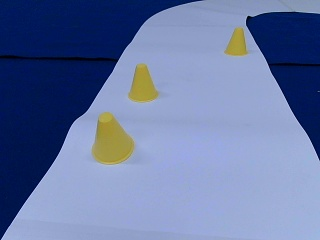cone: (92, 112, 134, 163), (127, 64, 159, 102), (224, 27, 247, 54)
